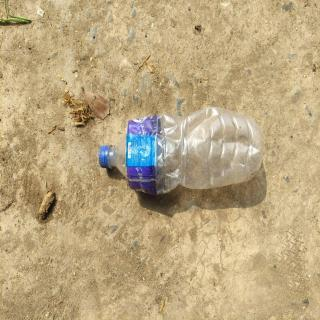Plastic-bottle: (98, 104, 267, 199)
